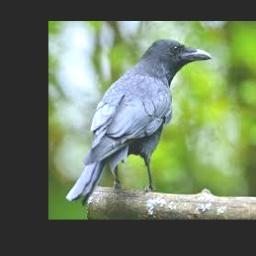Crow: (66, 39, 213, 206)
